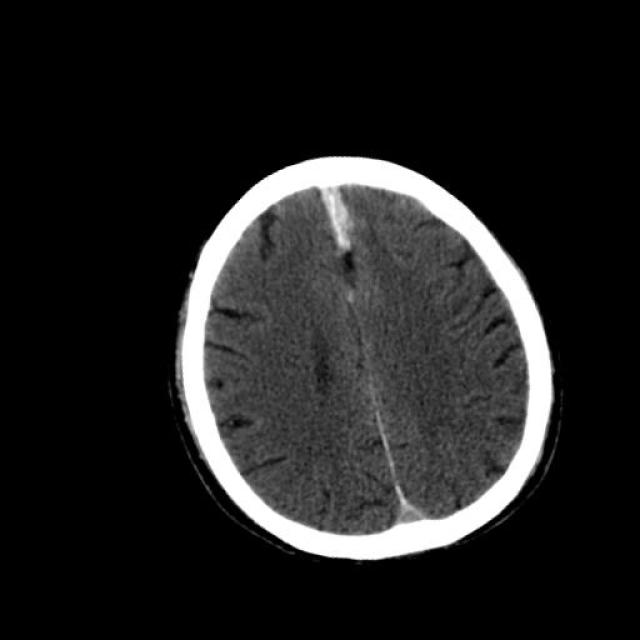Subdural: (270, 155, 404, 303)
